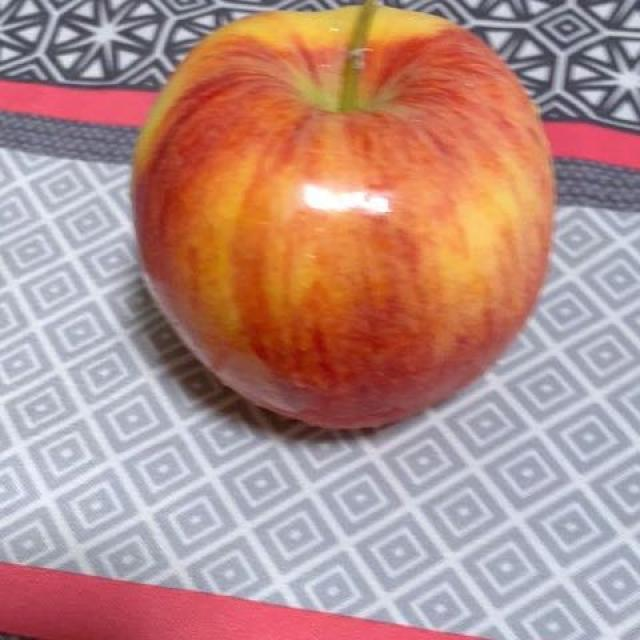Apple: (124, 1, 568, 444)
